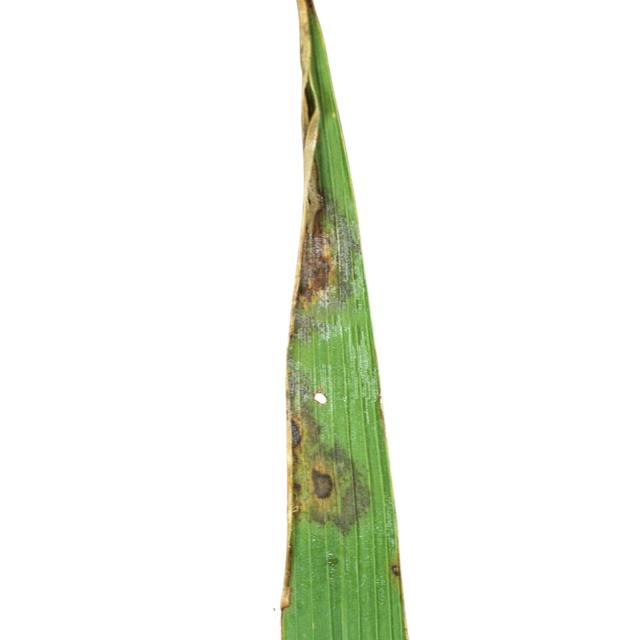Leaf scald: (207, 0, 448, 640)
